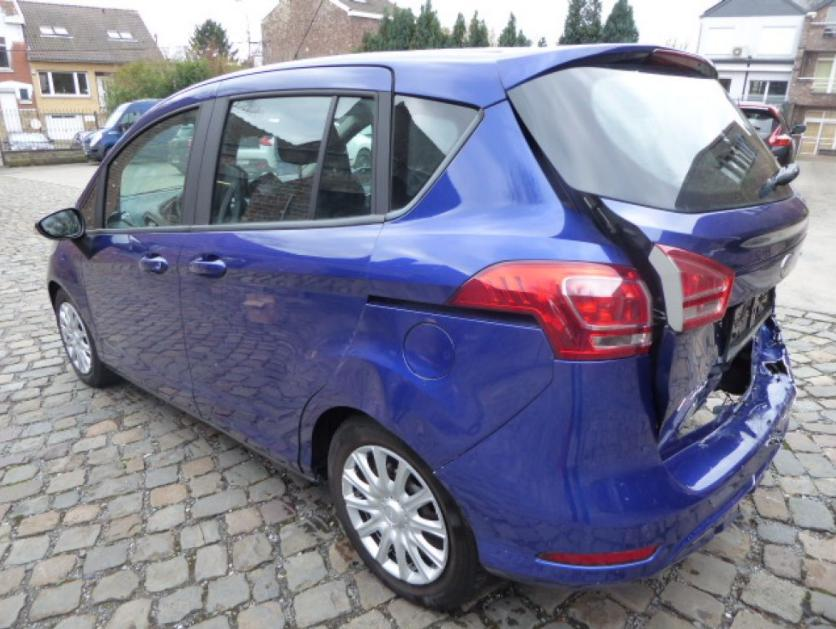Back-bumper: (435, 316, 793, 588)
Back-door: (181, 66, 393, 470)
Back-wheel: (328, 421, 477, 612)
Back-window: (209, 95, 371, 222), (392, 96, 476, 208)
Back-windshield: (509, 58, 792, 214)
Fender: (48, 238, 102, 358)
Front-door: (80, 82, 219, 416)
Front-wheel: (53, 290, 115, 387)
Front-window: (83, 110, 197, 231)
Headlight: (49, 241, 62, 256)
License-plate: (726, 282, 776, 359)
Mirror: (38, 208, 86, 237)
Quarter-panel: (300, 307, 553, 474), (369, 198, 628, 306)
Roof: (202, 47, 532, 83)
Tail-light: (451, 261, 654, 359), (649, 244, 734, 331)
Trunk: (498, 42, 808, 332)
